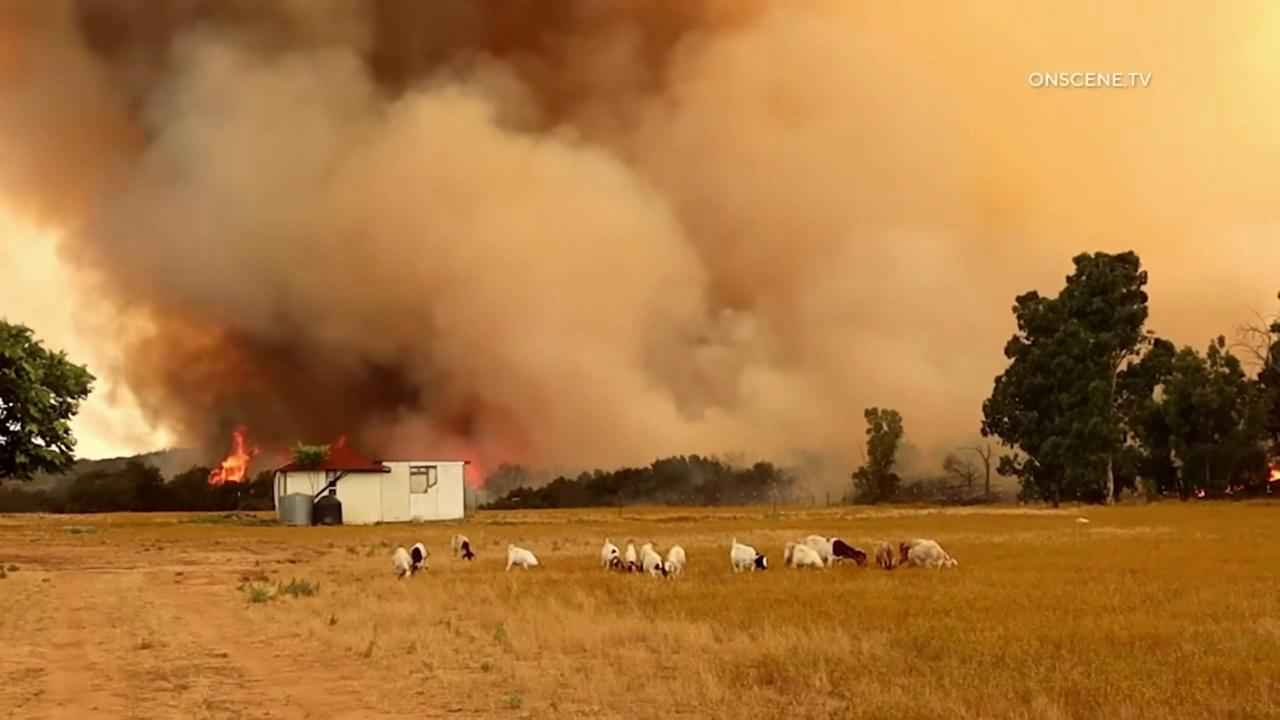fire: (207, 431, 260, 487), (461, 451, 485, 487), (1267, 463, 1280, 483), (1224, 484, 1245, 495), (338, 433, 349, 446), (1197, 489, 1205, 498)
smoke: (0, 0, 1280, 512)
